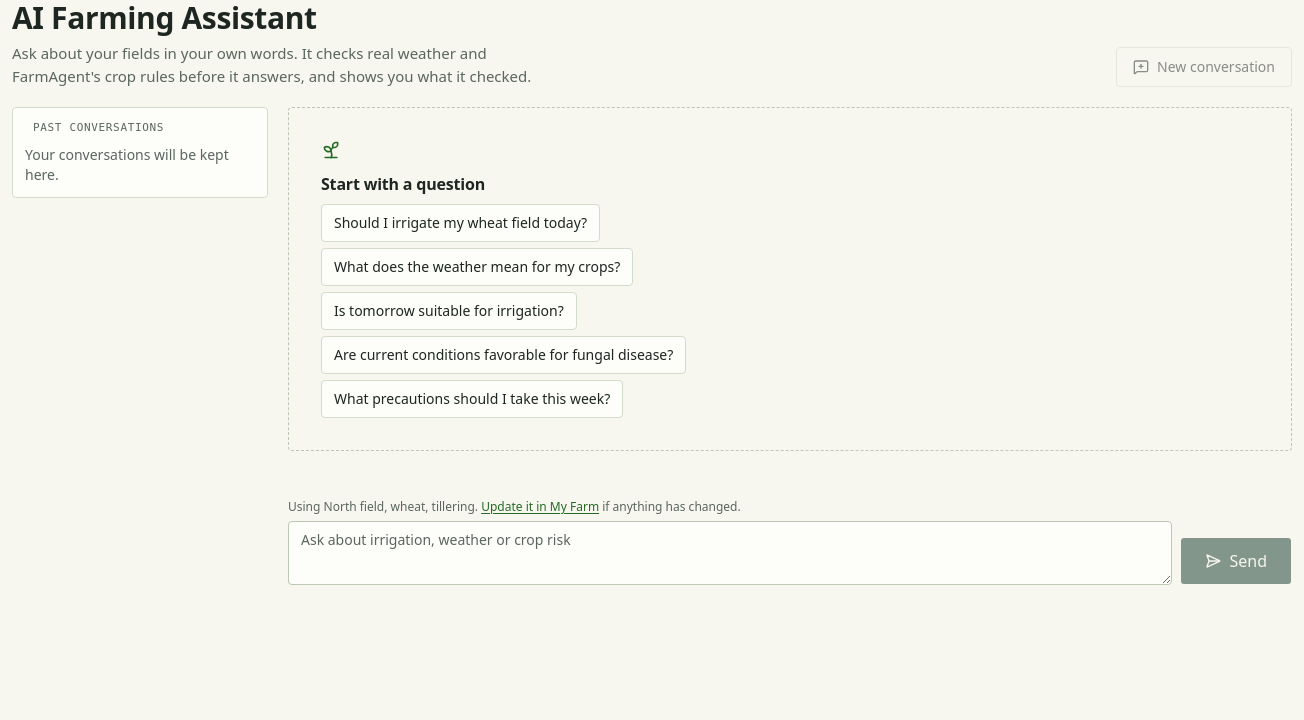
Test: AssistantPage › keeps the question after a failure, and retries it
Type "Should I irrigate?" into the text box named "Your question" at [730, 553], box [288,521,1172,585]
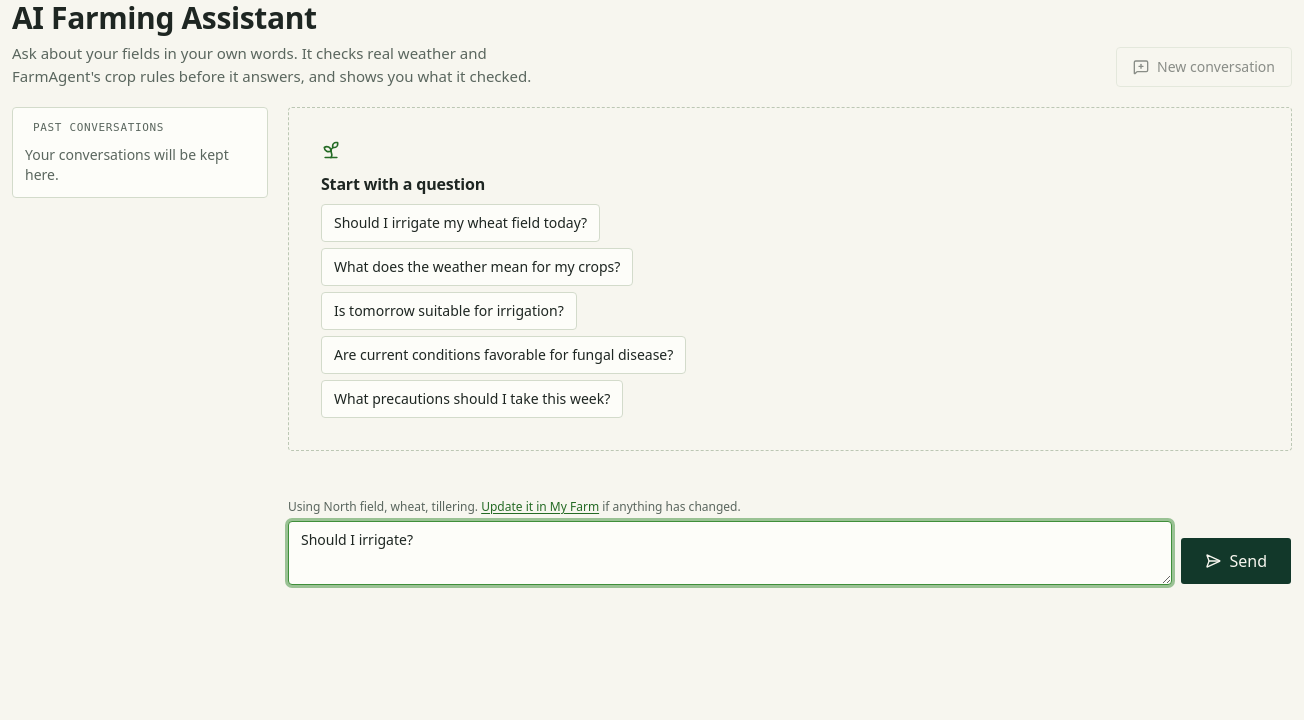
Click the button "Send" at [1236, 561], box [1180,537,1292,585]
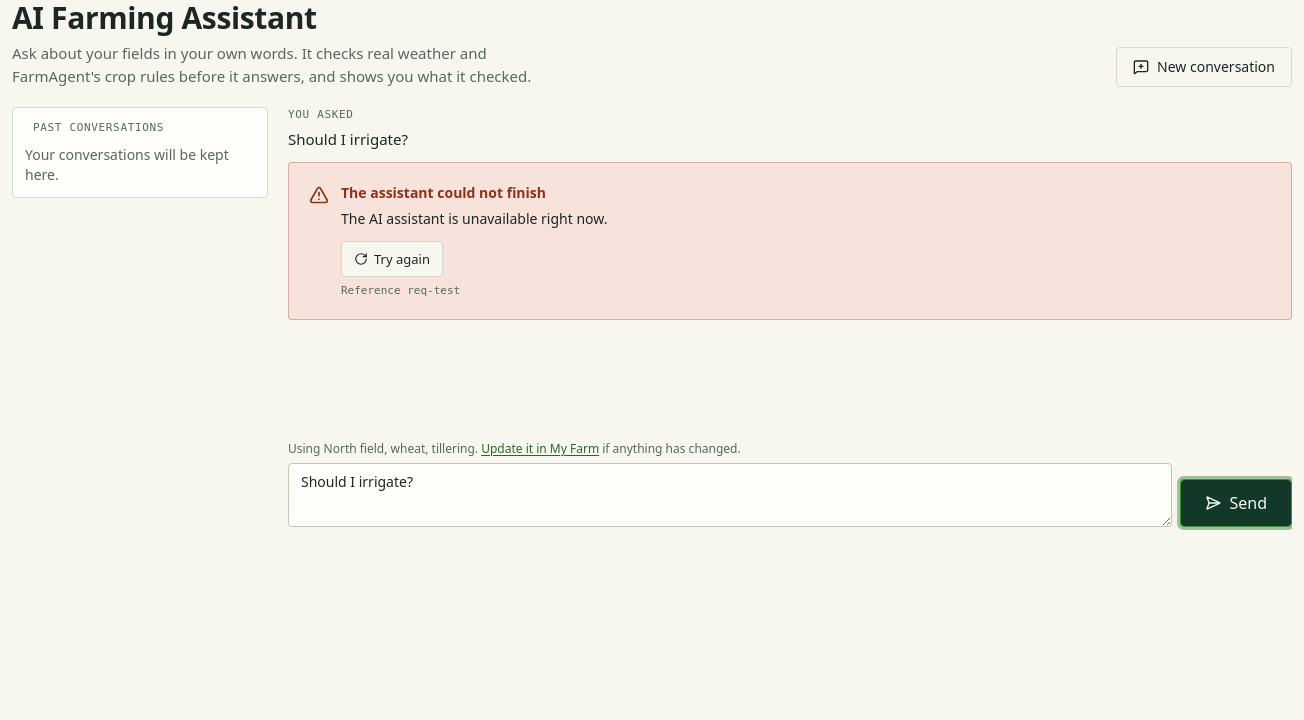
Now the message shows "The assistant could not finish", box [341,183,546,202]
Now the message shows "The AI assistant is unavailable right now.", box [341,209,608,228]
Click the button "Try again" at [392, 259], box [341,241,443,277]
(page scrolled)
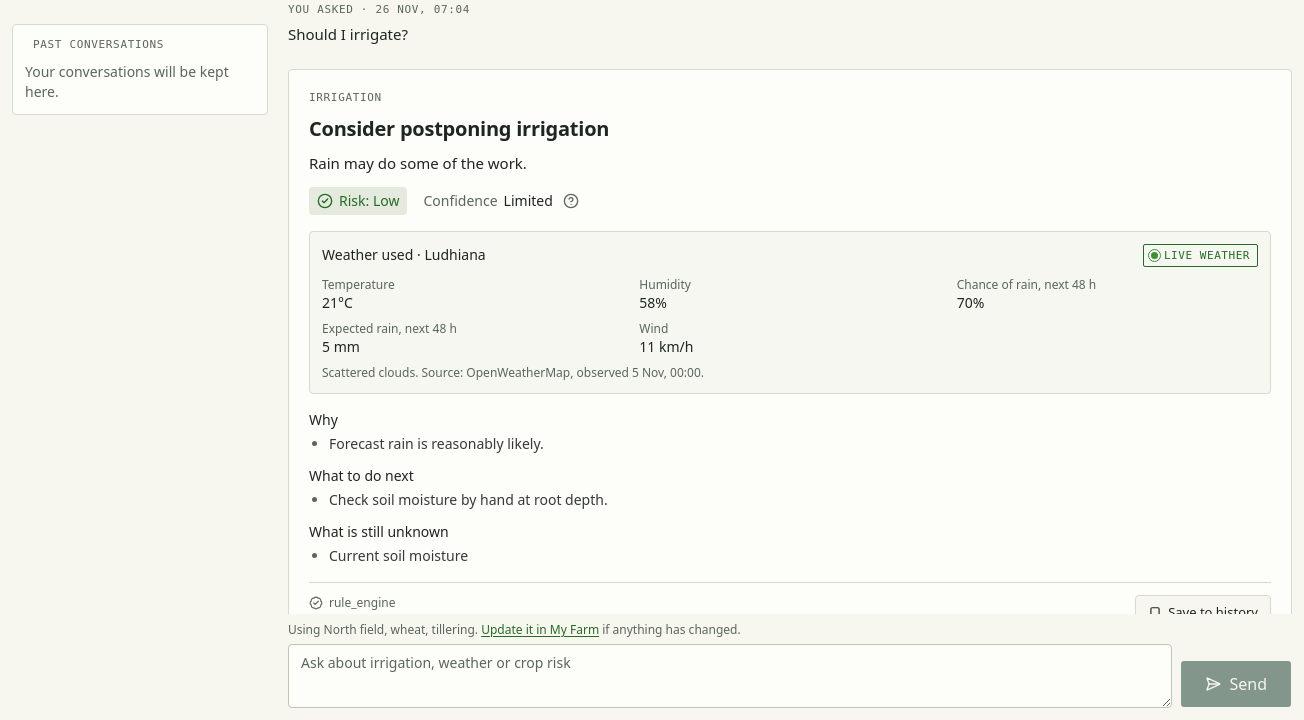
Now the element with test id "advice-card" is shown
